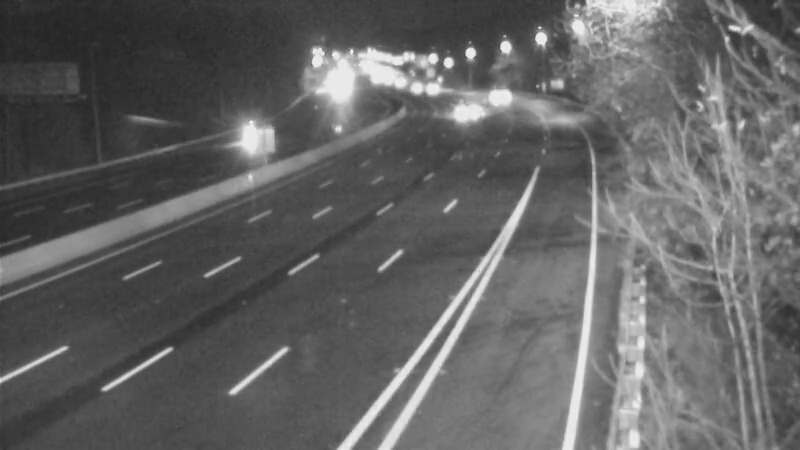vehicle: (467, 65, 517, 115), (445, 82, 495, 132), (221, 117, 271, 167)
